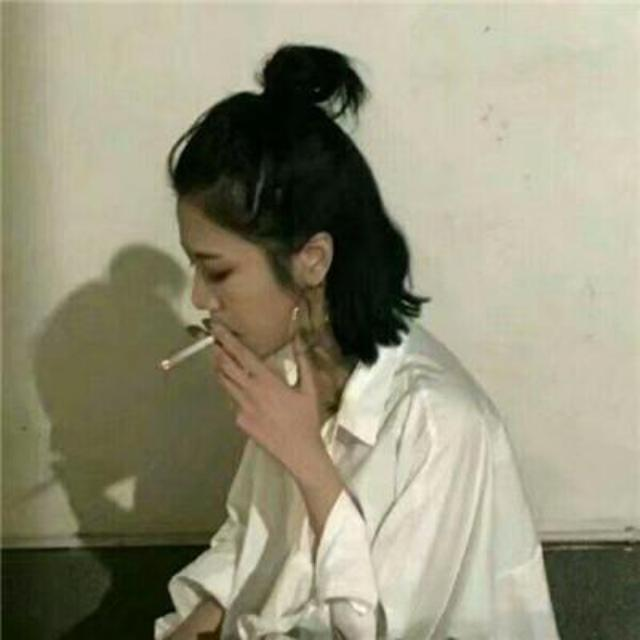Cigarette: (152, 340, 214, 376)
